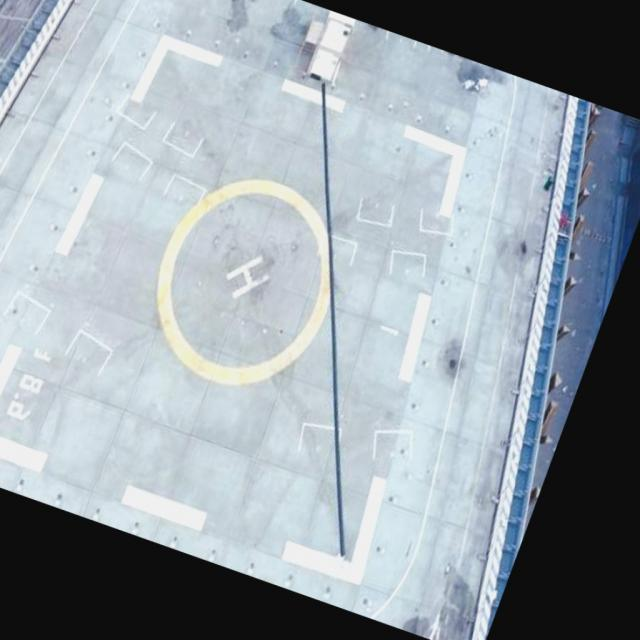helipad: (151, 174, 335, 390)
